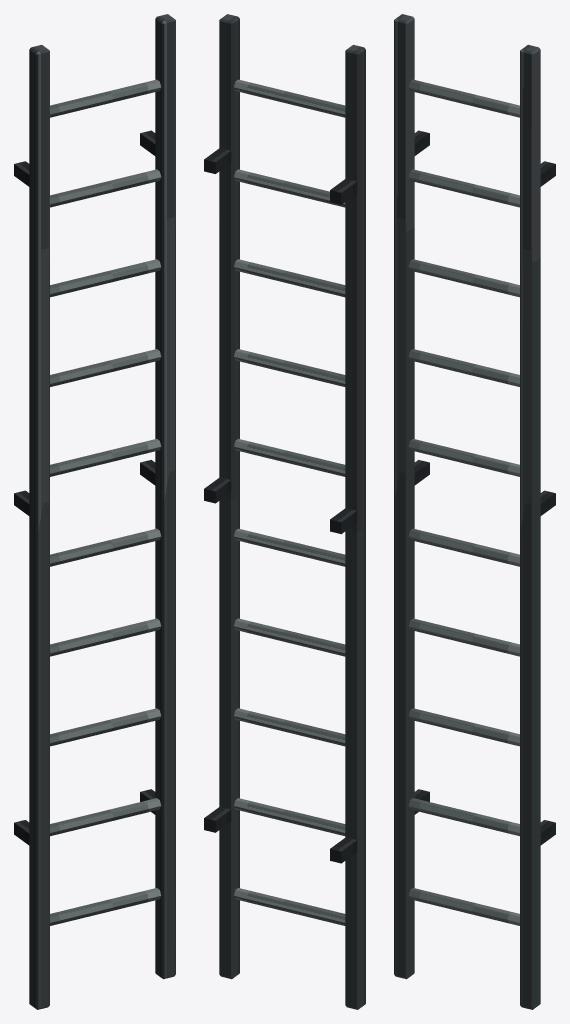
The model's file is sewer_ladder.glb.
3 renders of one model, left to right at view 1: azimuth 30°, elevation 25°; view 2: azimuth 150°, elevation 25°; view 3: azimuth 330°, elevation 25°, orthographic.
Visible parts, largest first — view 1: RailL, RailR, Rung02, Rung05, Rung01, Rung06, Rung09, Rung03, Rung08, Rung00, Rung04, Rung07; view 2: RailL, RailR, Rung04, Rung05, Rung09, Rung00, Rung01, Rung02, Rung03, Rung07, Rung06, Rung08 (+6 smaller); view 3: RailR, RailL, Rung02, Rung05, Rung01, Rung06, Rung09, Rung03, Rung08, Rung00, Rung04, Rung07.
Part boxes in pixels (<box>): RailL: <box>29,44,49,1009</box>; RailR: <box>155,14,175,979</box>; Rung02: <box>50,708,161,746</box>; Rung05: <box>50,439,161,476</box>; Rung01: <box>50,798,161,836</box>; Rung06: <box>50,349,161,386</box>; Rung09: <box>50,79,161,117</box>; Rung03: <box>50,618,161,656</box>; Rung08: <box>50,169,161,207</box>; Rung00: <box>50,888,161,925</box>; Rung04: <box>50,528,161,566</box>; Rung07: <box>50,259,161,297</box>; RailL: <box>345,44,365,1009</box>; RailR: <box>219,14,239,979</box>; Rung04: <box>234,528,345,566</box>; Rung05: <box>234,439,345,476</box>; Rung09: <box>234,79,345,117</box>; Rung00: <box>234,888,345,925</box>; Rung01: <box>234,798,345,835</box>; Rung02: <box>234,708,345,746</box>; Rung03: <box>234,618,345,656</box>; Rung07: <box>234,259,345,297</box>; Rung06: <box>234,349,345,386</box>; Rung08: <box>234,169,345,207</box>; RailR: <box>520,44,540,1009</box>; RailL: <box>394,14,414,979</box>; Rung02: <box>408,708,519,746</box>; Rung05: <box>408,439,519,476</box>; Rung01: <box>408,798,519,836</box>; Rung06: <box>408,349,519,386</box>; Rung09: <box>408,79,519,117</box>; Rung03: <box>408,618,519,656</box>; Rung08: <box>408,169,519,207</box>; Rung00: <box>408,888,519,925</box>; Rung04: <box>408,528,519,566</box>; Rung07: <box>408,259,519,297</box>.
Size of the model in its own units: 0.49 by 3.2 by 0.145.
2 materials, 2 textured.
